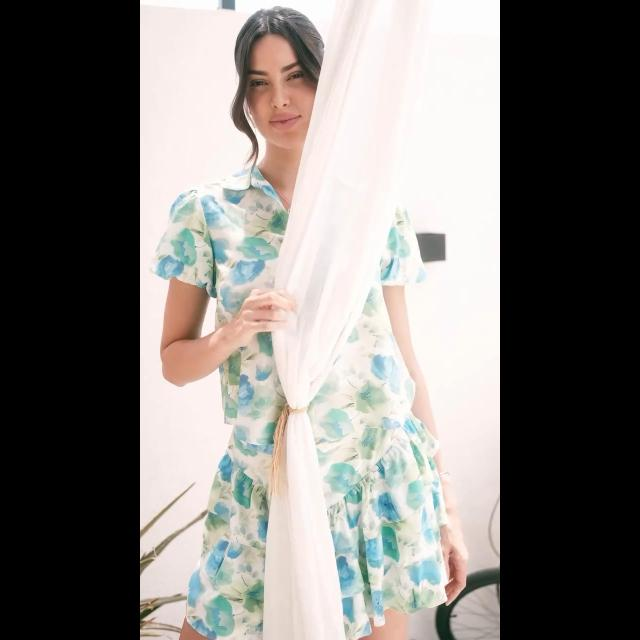dress: (166, 179, 434, 637)
